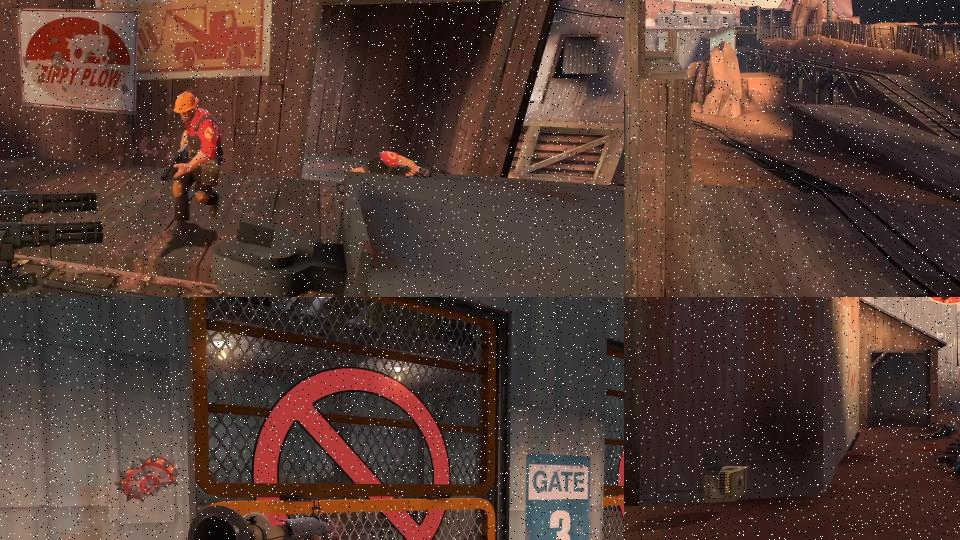Enemy: (159, 90, 225, 247), (349, 148, 439, 182), (936, 451, 960, 478)
